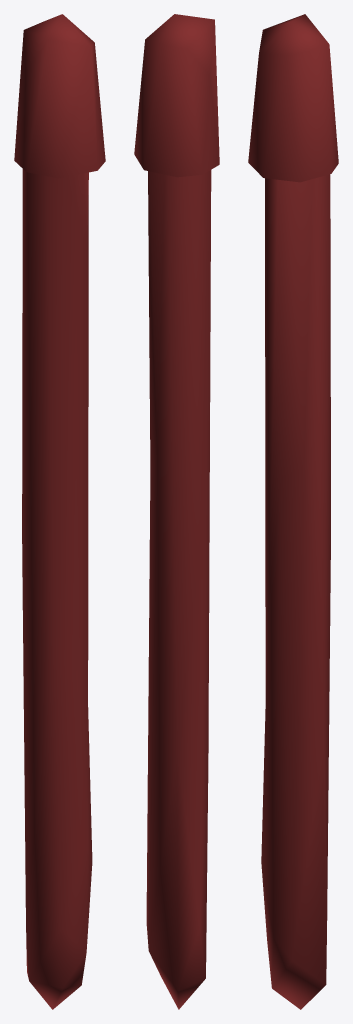
File: SM_torch.fbx
3 renders of one model, left to right at view 1: azimuth 90°, elevation 25°; view 2: azimuth 210°, elevation 25°; view 3: azimuth 270°, elevation 25°, orthographic.
Parts seen in each view (by area): view 1: torch; view 2: torch; view 3: torch.
Boxes of the visible parts, box(x1,y1,x2,y2) form: torch: box(14, 14, 105, 1009); torch: box(134, 14, 219, 1009); torch: box(248, 14, 338, 1009).
Bounding box in the file's own units: 10.45 × 131 × 10.93.
